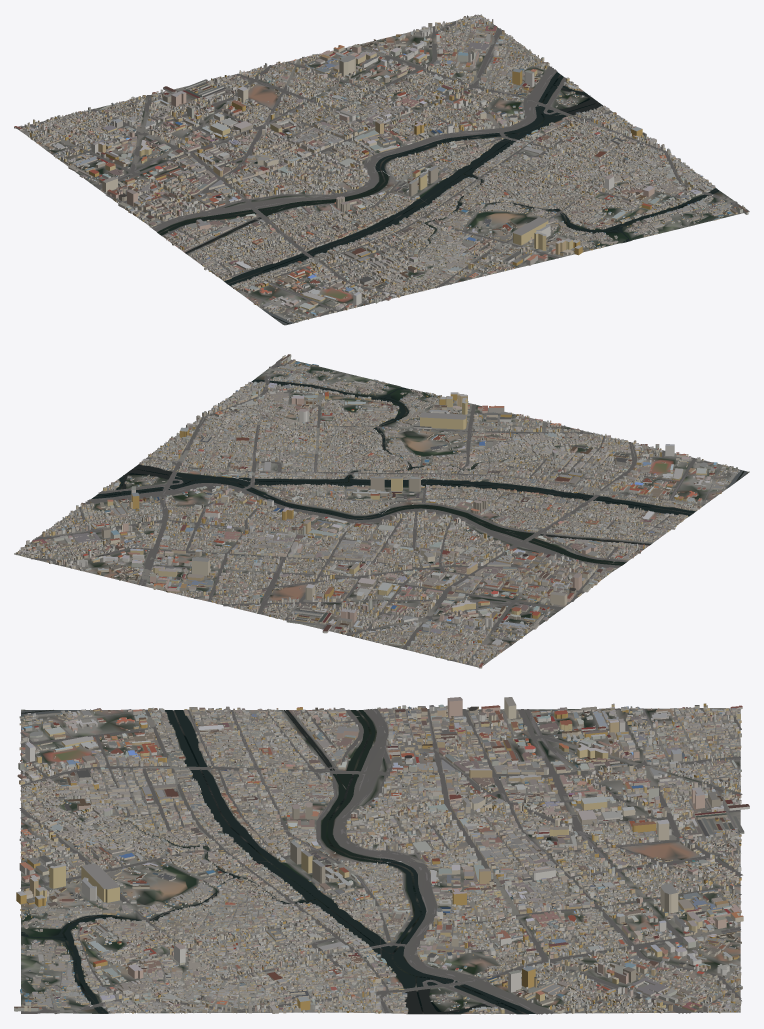
The picture shows the model from 3 angles, top to bottom: view 1: azimuth 30°, elevation 25°; view 2: azimuth 150°, elevation 25°; view 3: azimuth 270°, elevation 25°; orthographic projection. The views are drawn at different scales.
Visible parts, largest first — view 1: buildings, ground, roads, water; view 2: buildings, ground, roads, water; view 3: buildings, ground, roads, water.
Part boxes in pixels (x1,y1,x2,y2): buildings: (14,14,748,322); ground: (19,14,743,325); roads: (24,18,749,317); water: (157,72,719,324); buildings: (14,354,739,668); ground: (14,359,749,667); roads: (29,358,729,665); water: (92,379,746,567); buildings: (14,697,749,1014); ground: (21,708,740,1014); roads: (19,708,742,1014); water: (21,710,551,1014).
Size of the model in its own units: 2825 by 93.38 by 2865.
